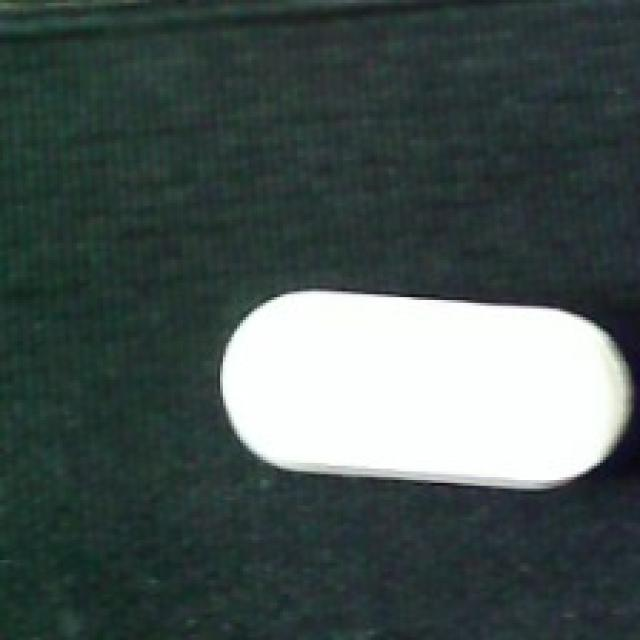no-defect: (215, 286, 634, 494)
